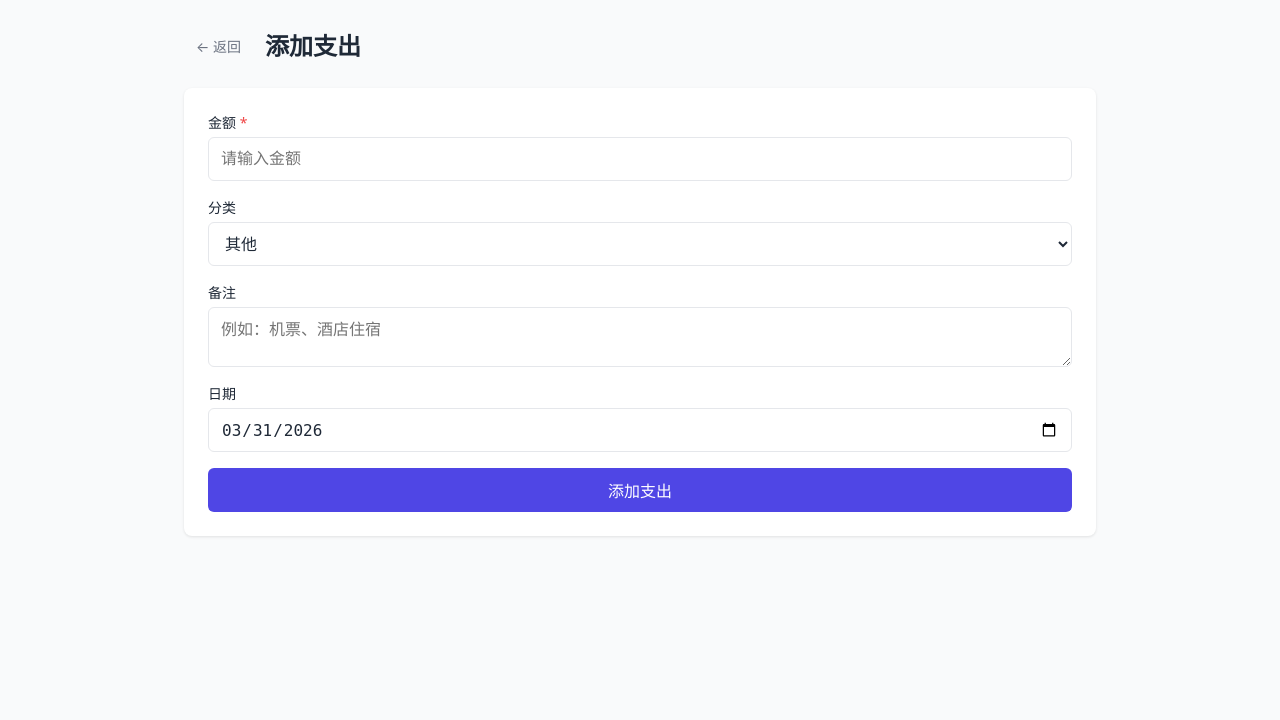
AddExpensePage › 有预算且将超支时显示超支预警（需求 14.3）
Type "200" into the number field labelled "金额". click: (640, 159)
box: [208, 137, 1072, 181]
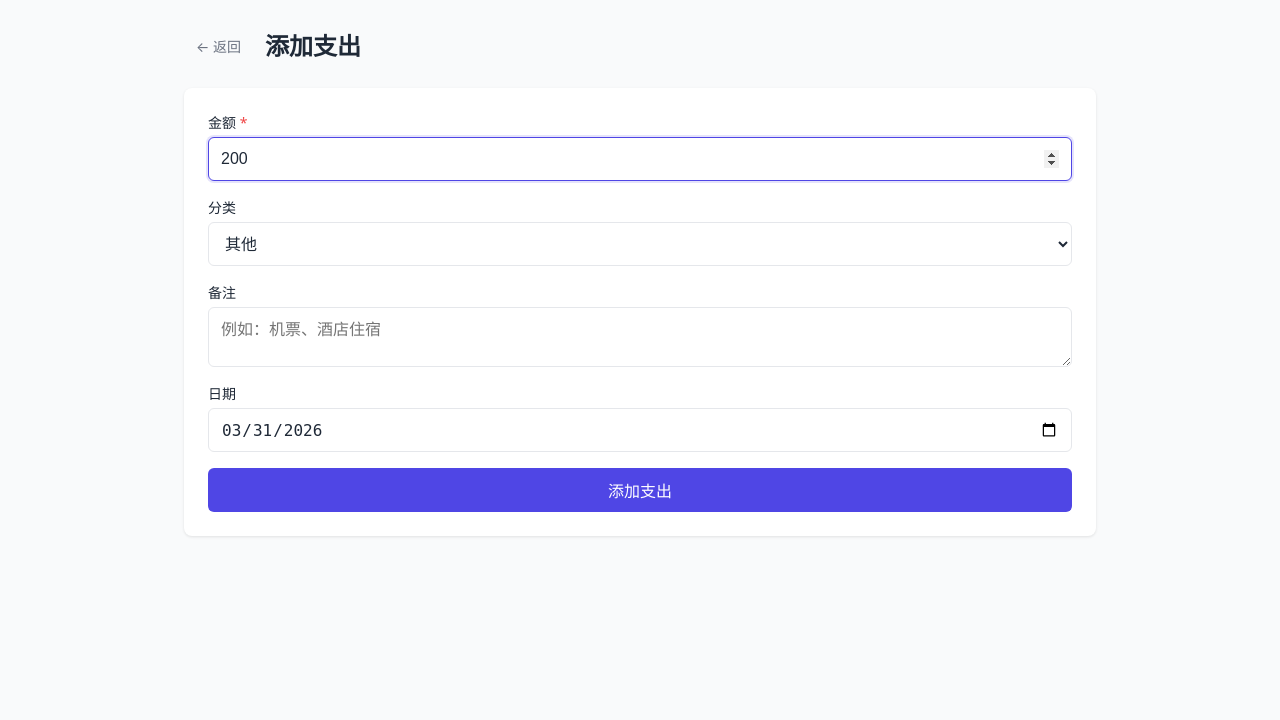
Click the button "添加支出". click: (640, 490)
box: [208, 468, 1072, 512]
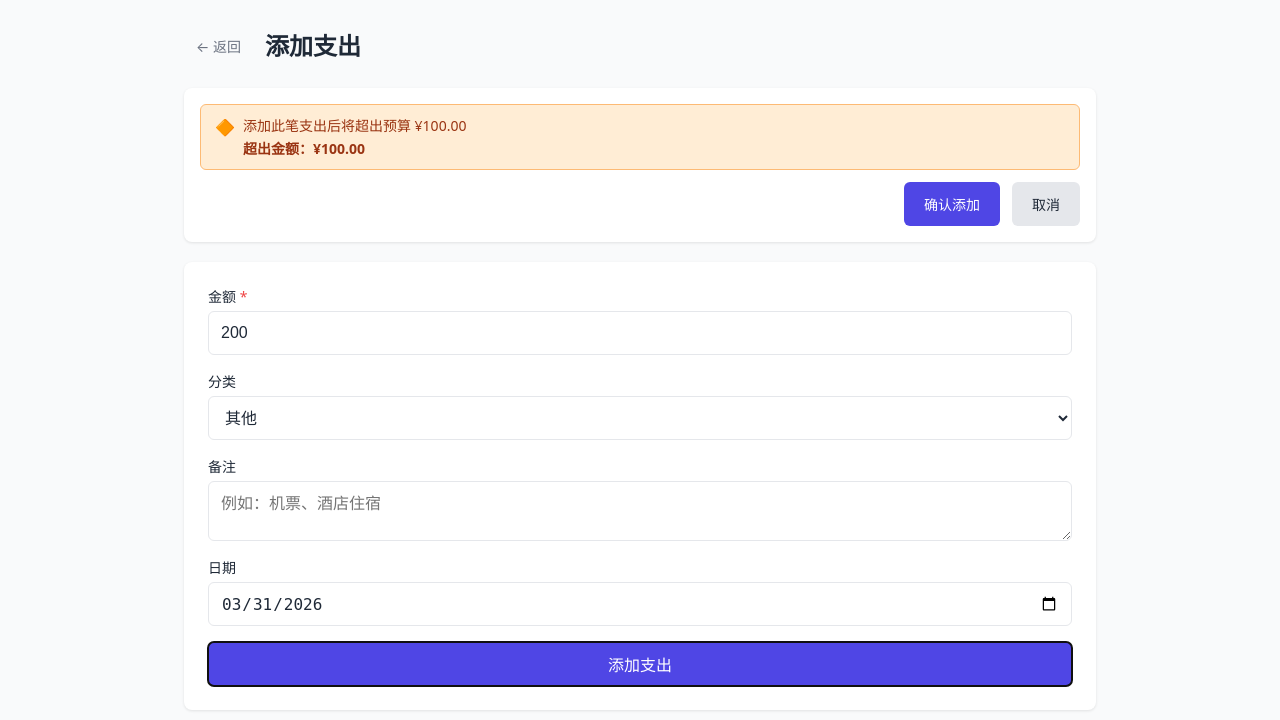
Expected: the message "🔶 添加此笔支出后将超出预算 ¥100.00 超出金额：¥100.00" is shown, [200, 104, 1080, 170]
Expected: the button "确认添加" is shown, [904, 182, 1000, 226]
Expected: the button "取消" is shown, [1012, 182, 1080, 226]
